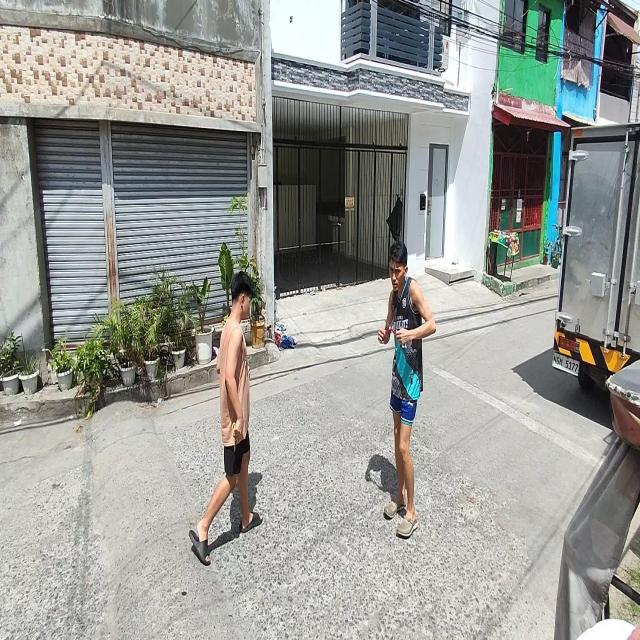scissor: (232, 422, 240, 452), (385, 319, 396, 337)
